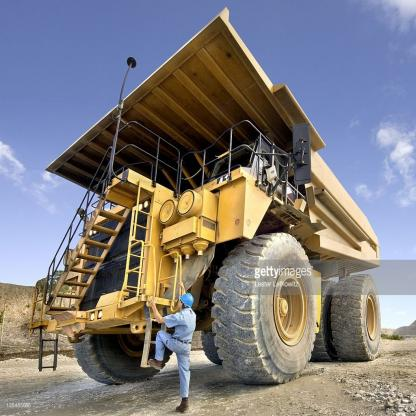dump_truck: (28, 14, 397, 379)
person: (148, 283, 198, 415)
